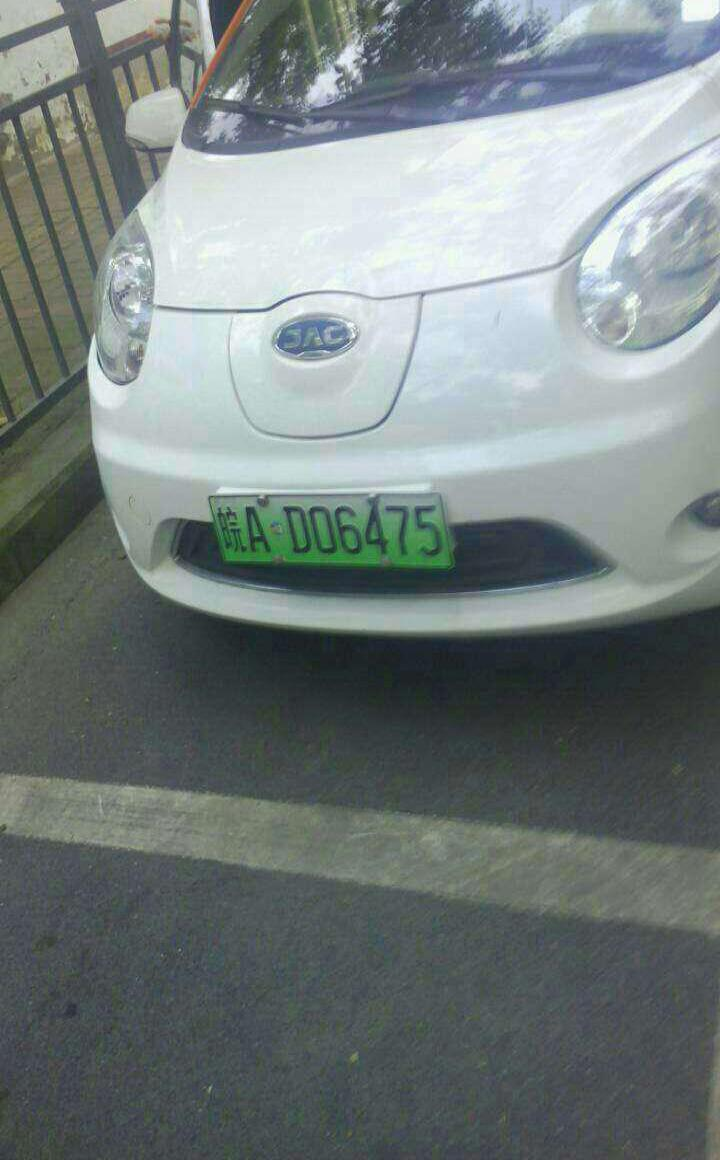car_id: (211, 492, 455, 564)
